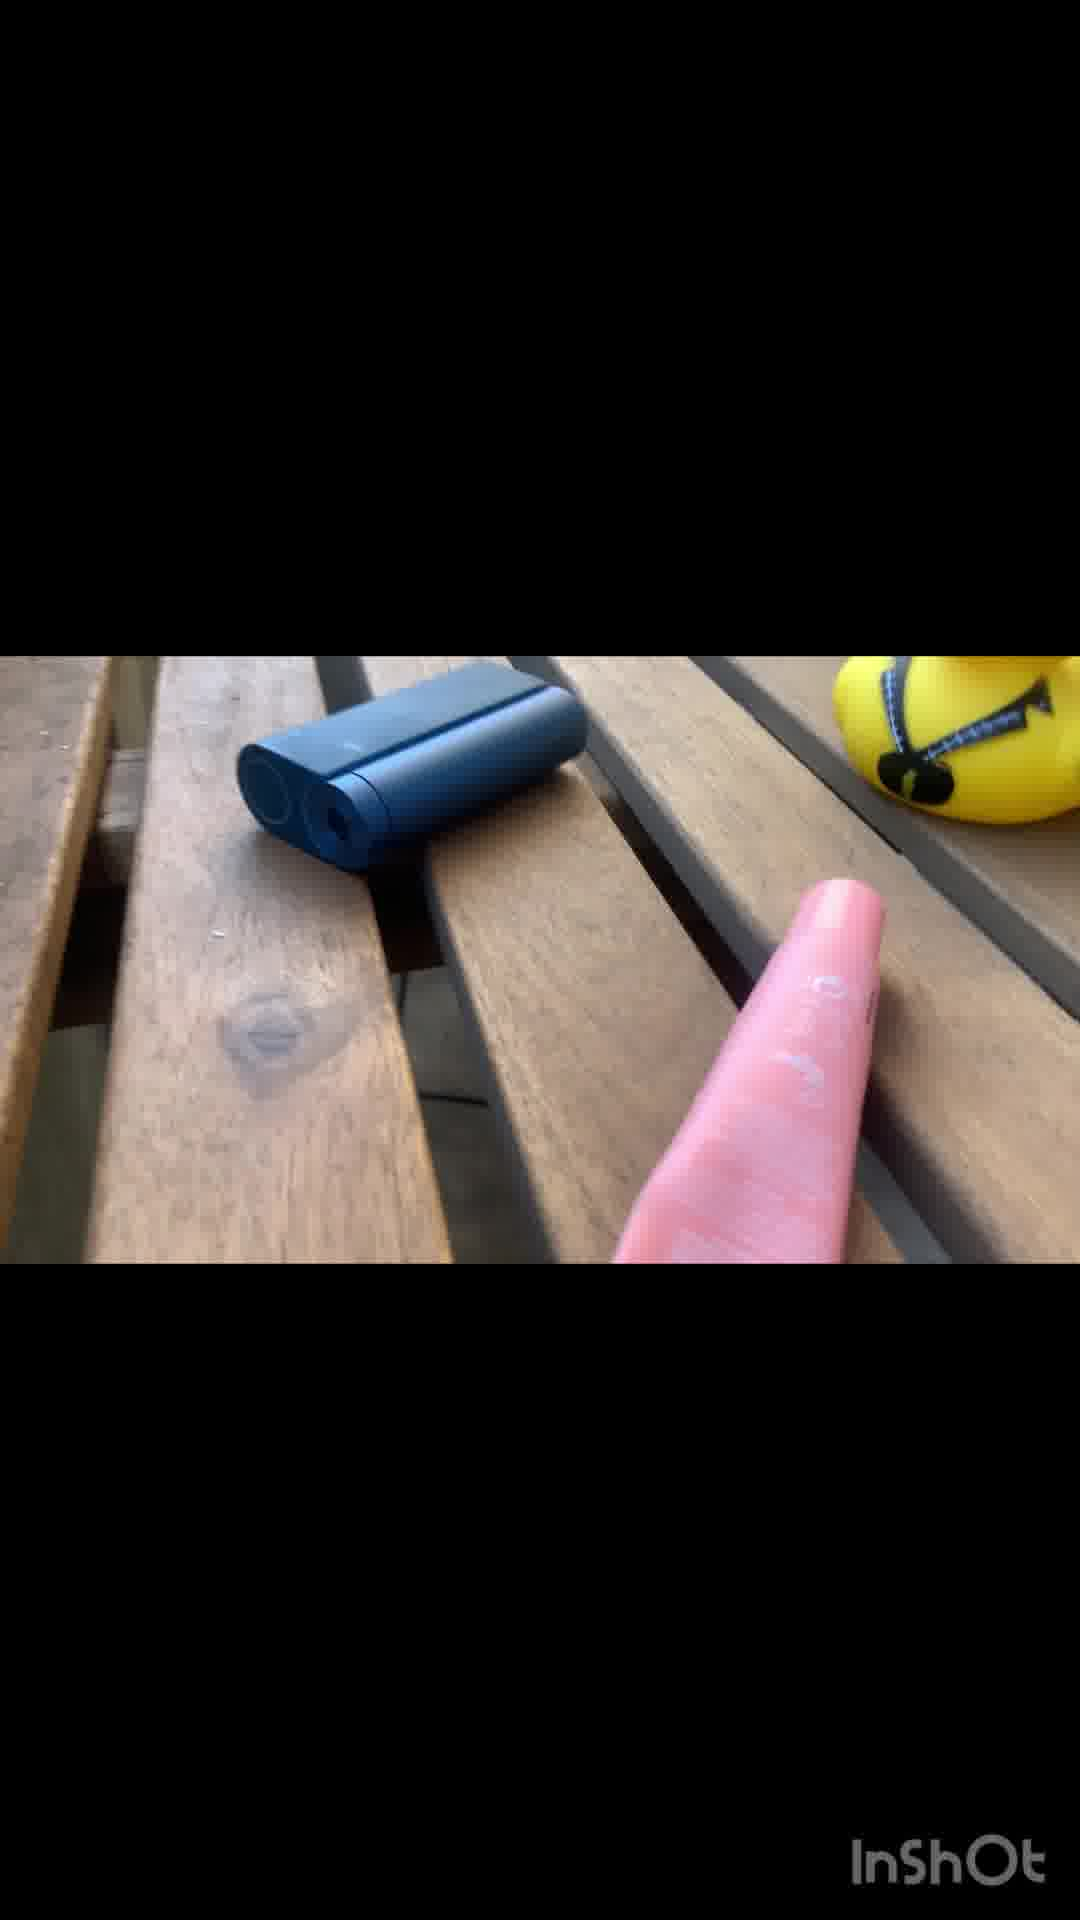duck: (810, 636, 1080, 841)
glo: (222, 651, 603, 887)
lip balm: (595, 876, 915, 1259)
